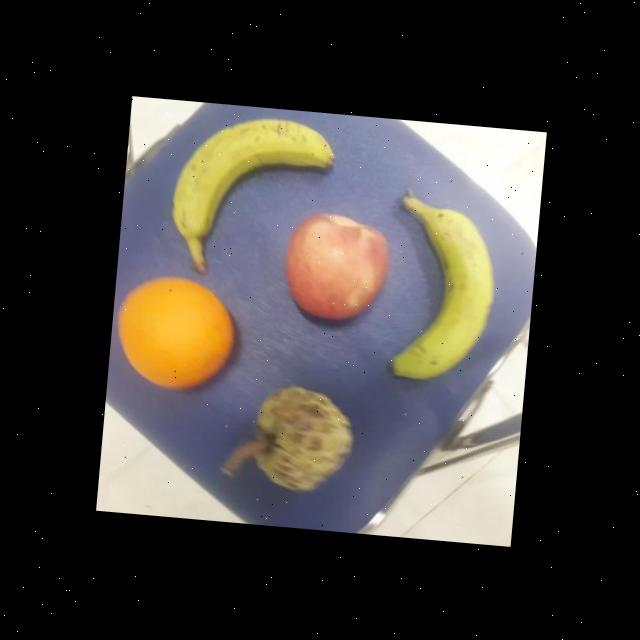Sakya fruit: (249, 378, 359, 494)
apple: (277, 206, 394, 328)
banana: (163, 108, 334, 280), (386, 189, 508, 383)
orange: (108, 270, 242, 394)
